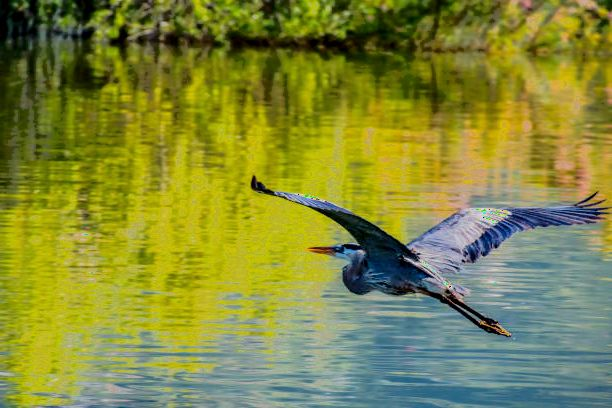Bird: (248, 165, 612, 339)
